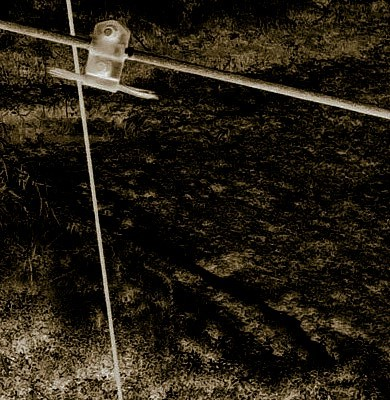Damage of shockproof hammer: (38, 15, 170, 110)
